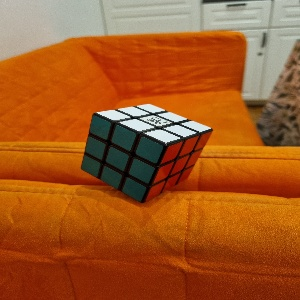cube: (79, 103, 214, 205)
